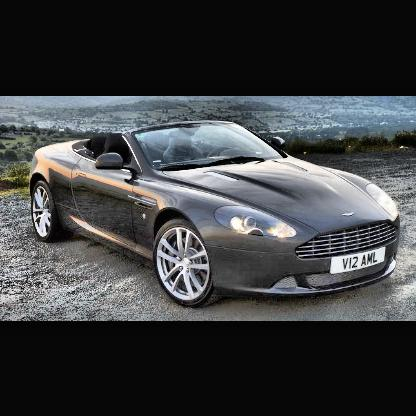Aston Martin Virage Convertible 2012: (28, 120, 403, 307)
